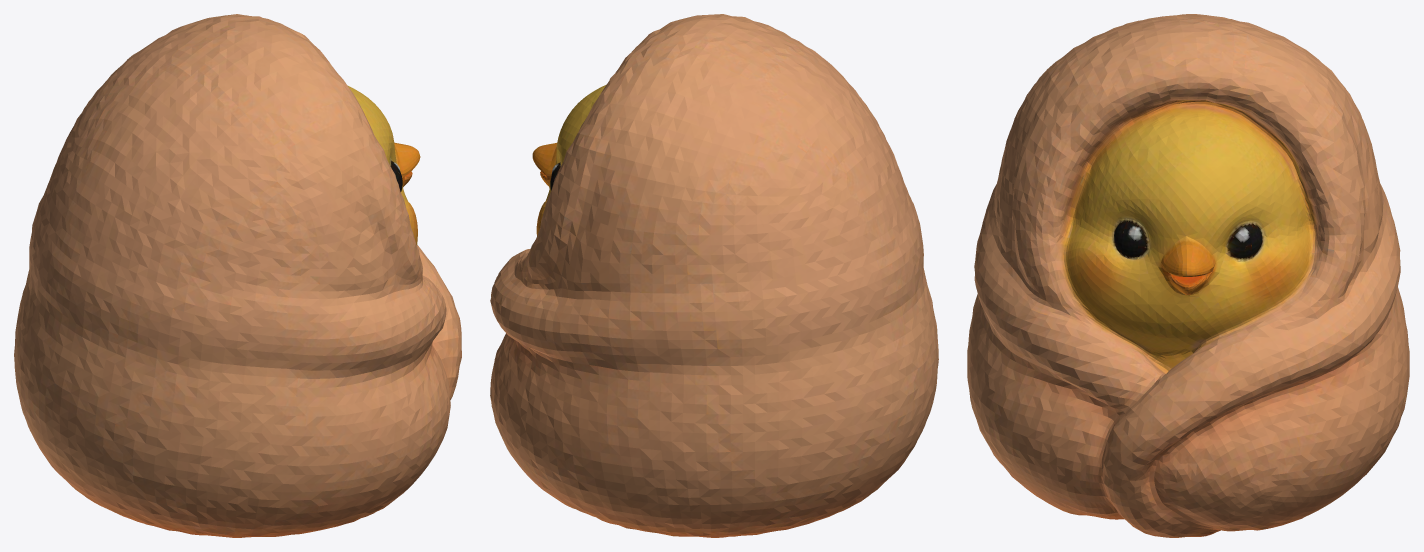
The model's file is plush.glb.
The picture shows the model from 3 angles, left to right: view 1: azimuth 30°, elevation 25°; view 2: azimuth 150°, elevation 25°; view 3: azimuth 270°, elevation 25°; orthographic projection.
Visible parts, largest first — view 1: tripo_node_c06dec8e-c855-443d-984e-17134d12a283; view 2: tripo_node_c06dec8e-c855-443d-984e-17134d12a283; view 3: tripo_node_c06dec8e-c855-443d-984e-17134d12a283.
Boxes of the visible parts, x1,y1,x2,y2 form: tripo_node_c06dec8e-c855-443d-984e-17134d12a283: [14, 14, 461, 537]; tripo_node_c06dec8e-c855-443d-984e-17134d12a283: [490, 14, 938, 537]; tripo_node_c06dec8e-c855-443d-984e-17134d12a283: [967, 14, 1409, 537].
Size of the model in its own units: 0.934 by 0.9989 by 0.8876.
Materials: 1 (1 with a texture image).
